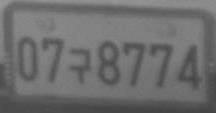0: (16, 35, 38, 81)
4: (177, 44, 202, 88)
7: (41, 36, 64, 82), (149, 42, 173, 86), (123, 41, 146, 86)
8: (96, 40, 121, 85)
구: (68, 47, 92, 84)
